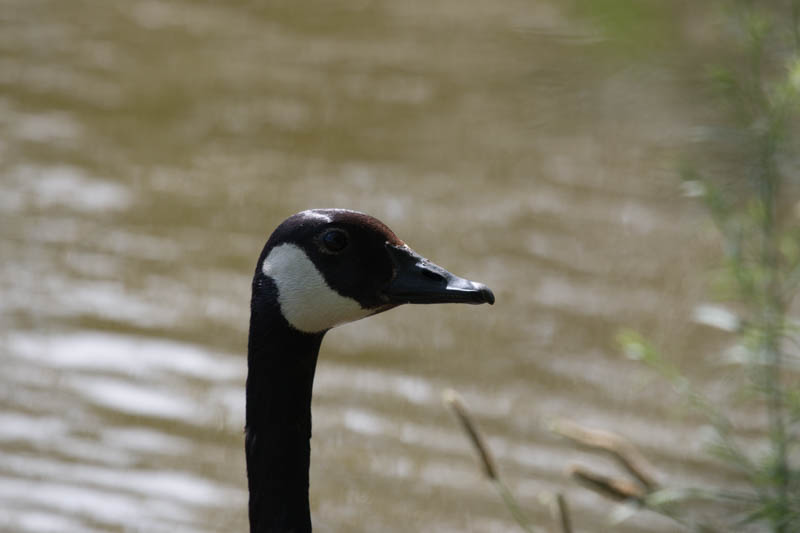goose-head: (251, 208, 495, 332)
